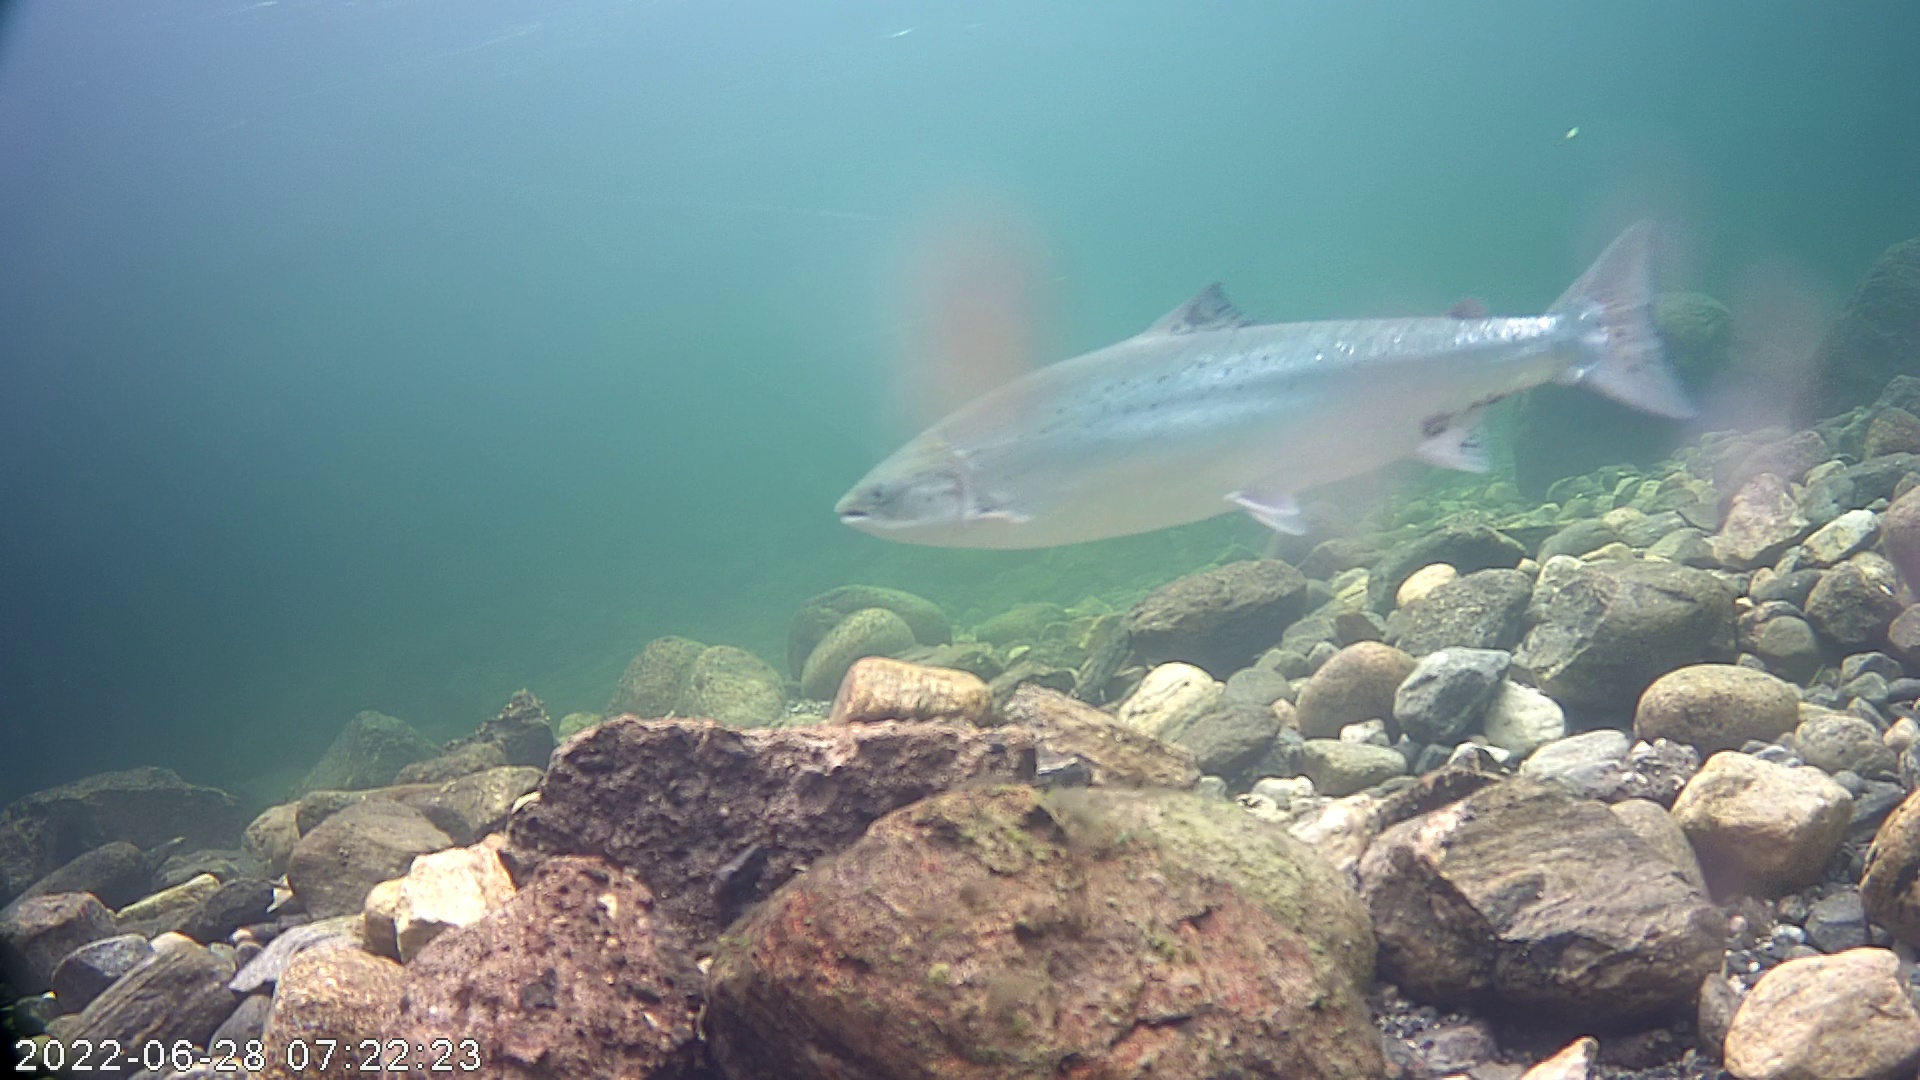salmon: (822, 161, 1727, 604)
